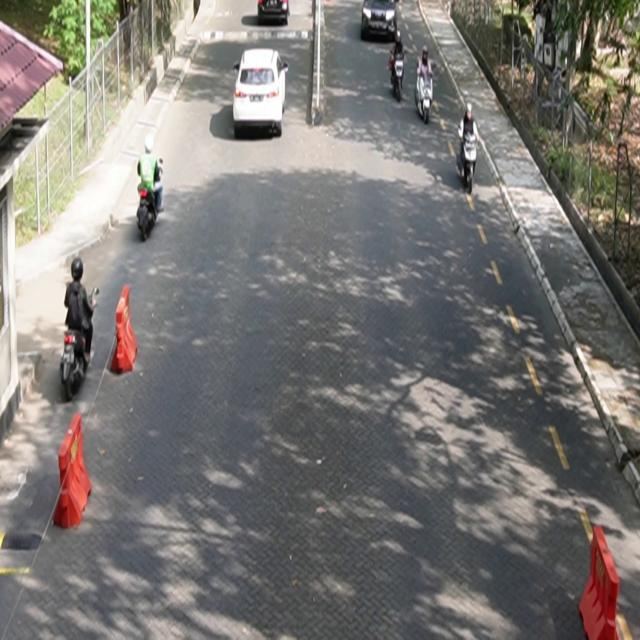car: (234, 49, 290, 139), (361, 1, 398, 42), (258, 1, 290, 25)
